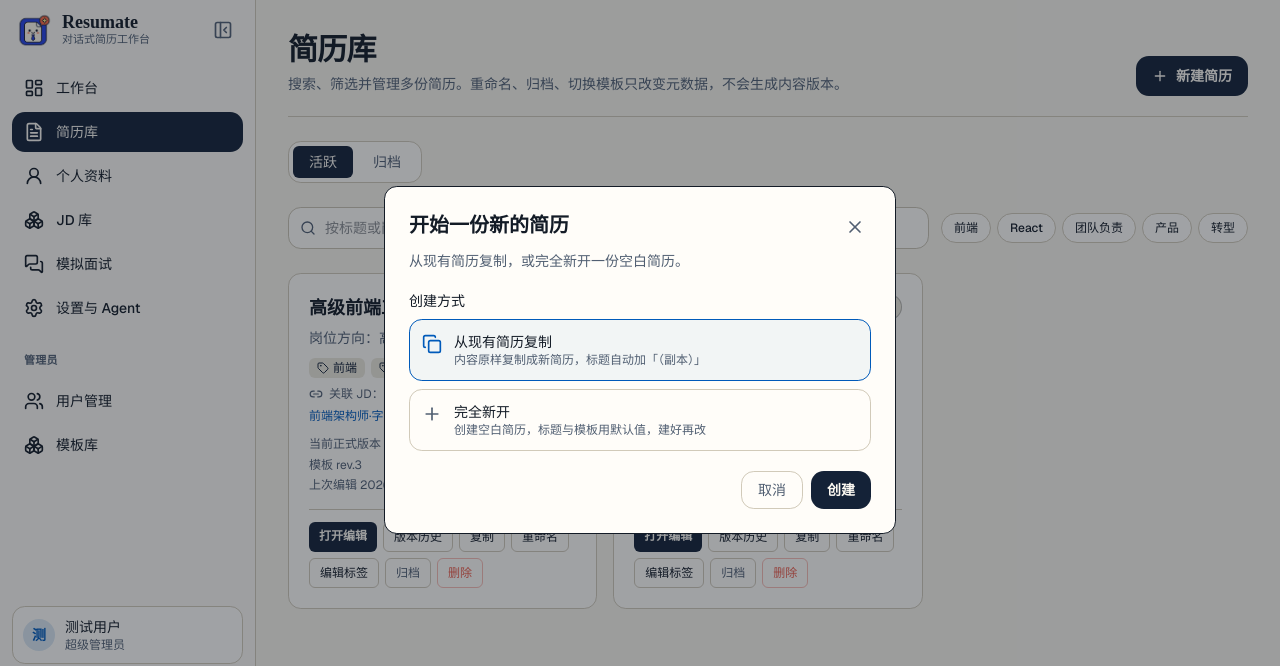
Test: 创建简历 Modal：两条链路 › App 级：完全新开创建成功后进入编辑器而不是 404
Click the button "完全新开 创建空白简历，标题与模板用默认值，建好再改": x=640, y=420 [409, 389, 871, 451]
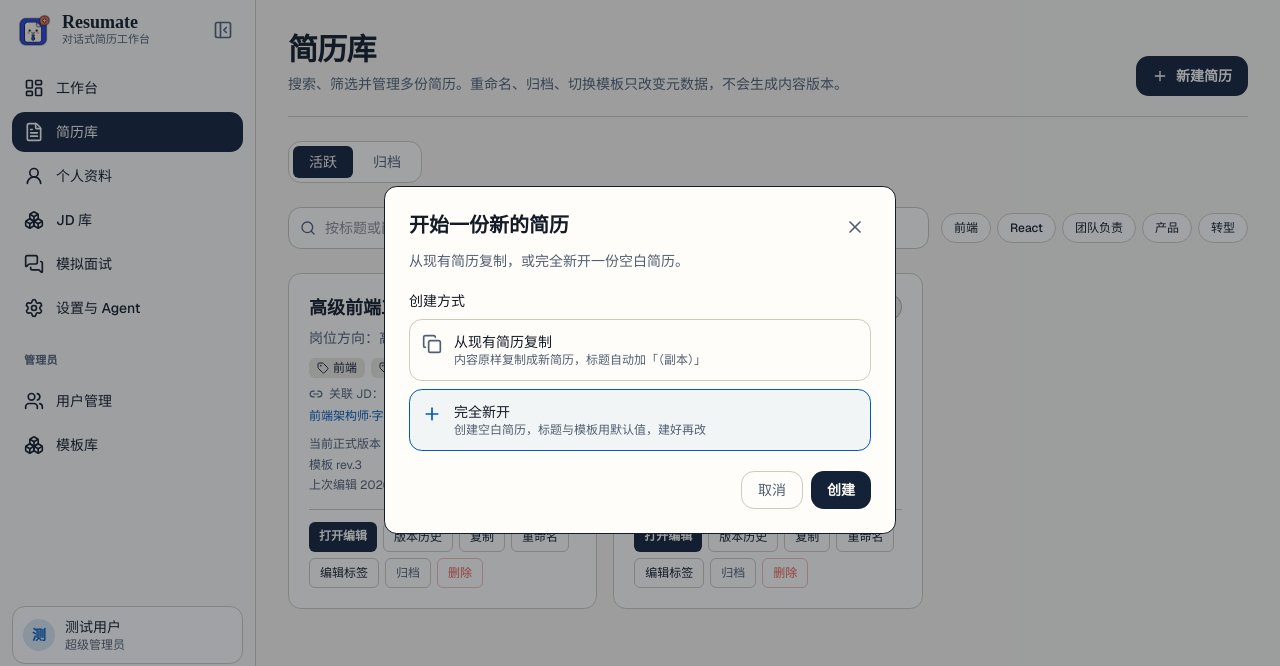
Click the button "创建": x=841, y=490 [811, 471, 871, 509]
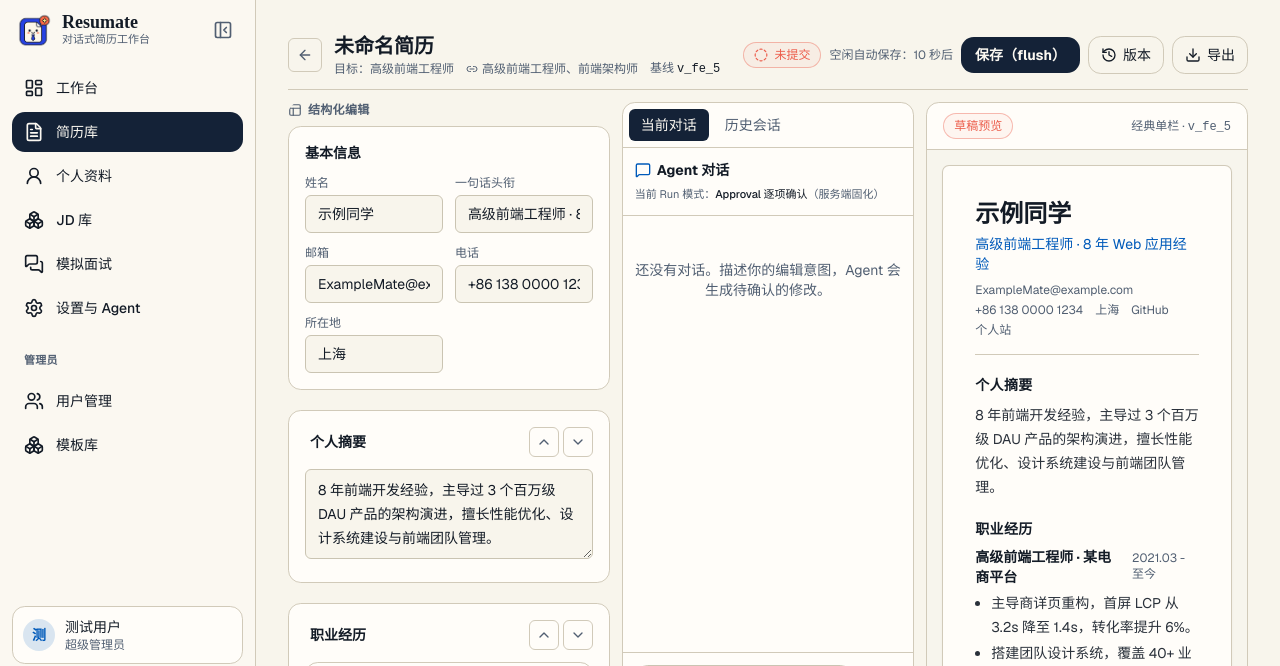
Result: the heading "未命名简历" is shown at [334, 35, 434, 57]
